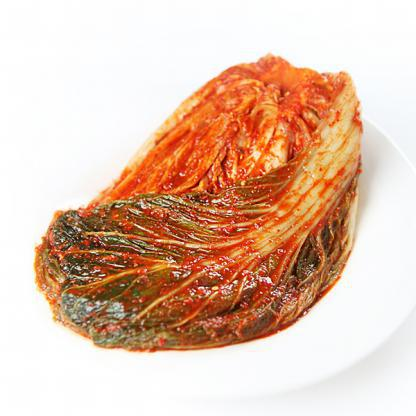kimchi: (39, 51, 374, 348)
